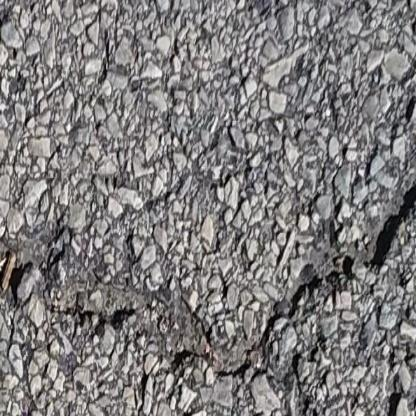Cracks: (0, 135, 416, 379)
